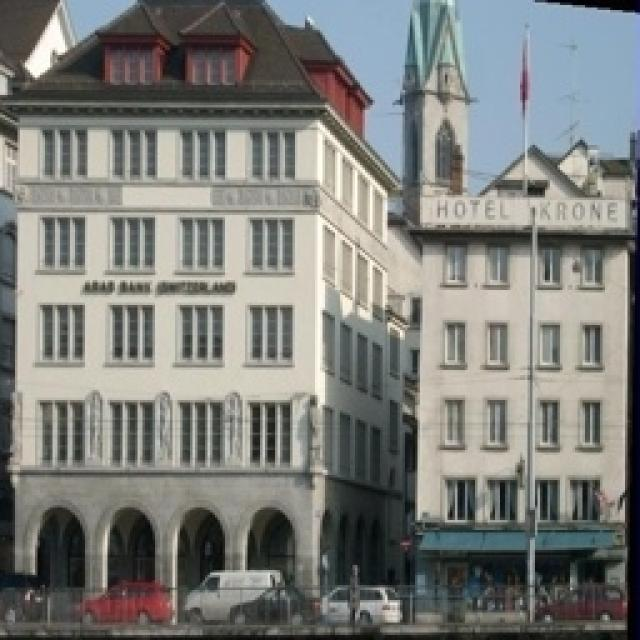building: (0, 3, 385, 625), (410, 120, 640, 602)
